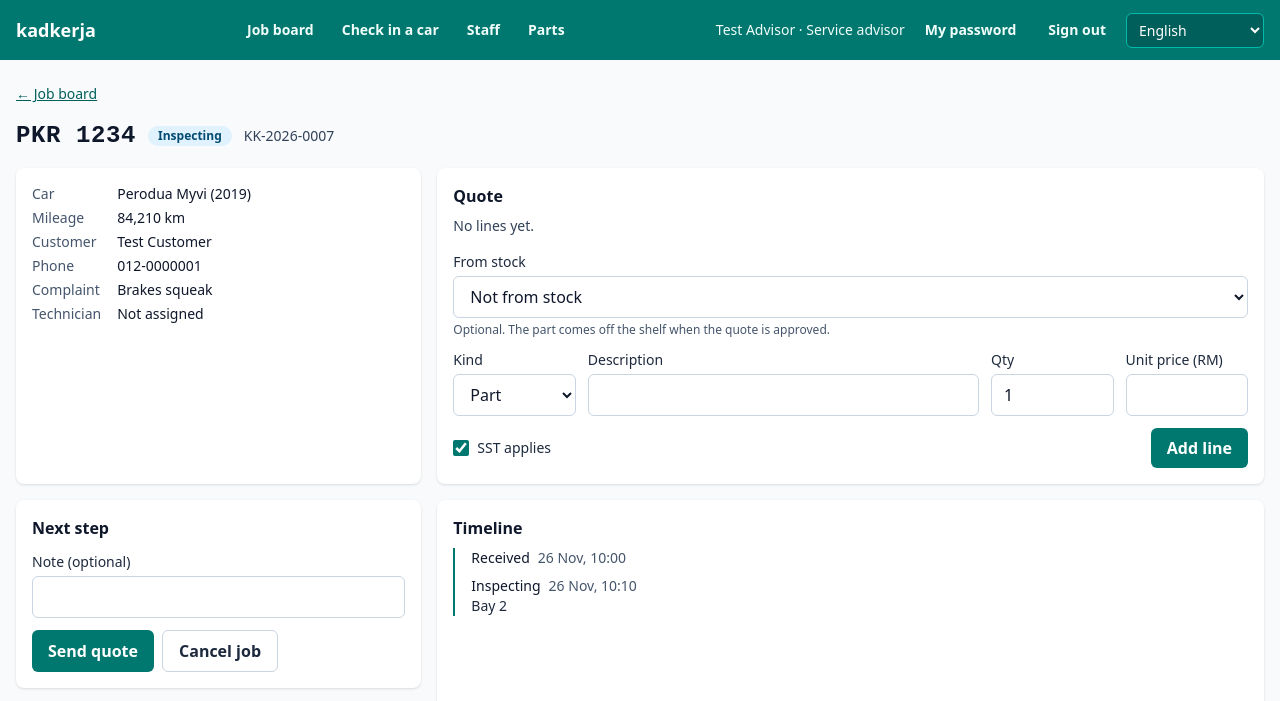
Test: JobPage › shows why the server refused a move and keeps the card as it was
The width and height of the screenshot is (1280, 701).
Click the button "Send quote".
click(93, 651)  # box [32, 630, 154, 672]
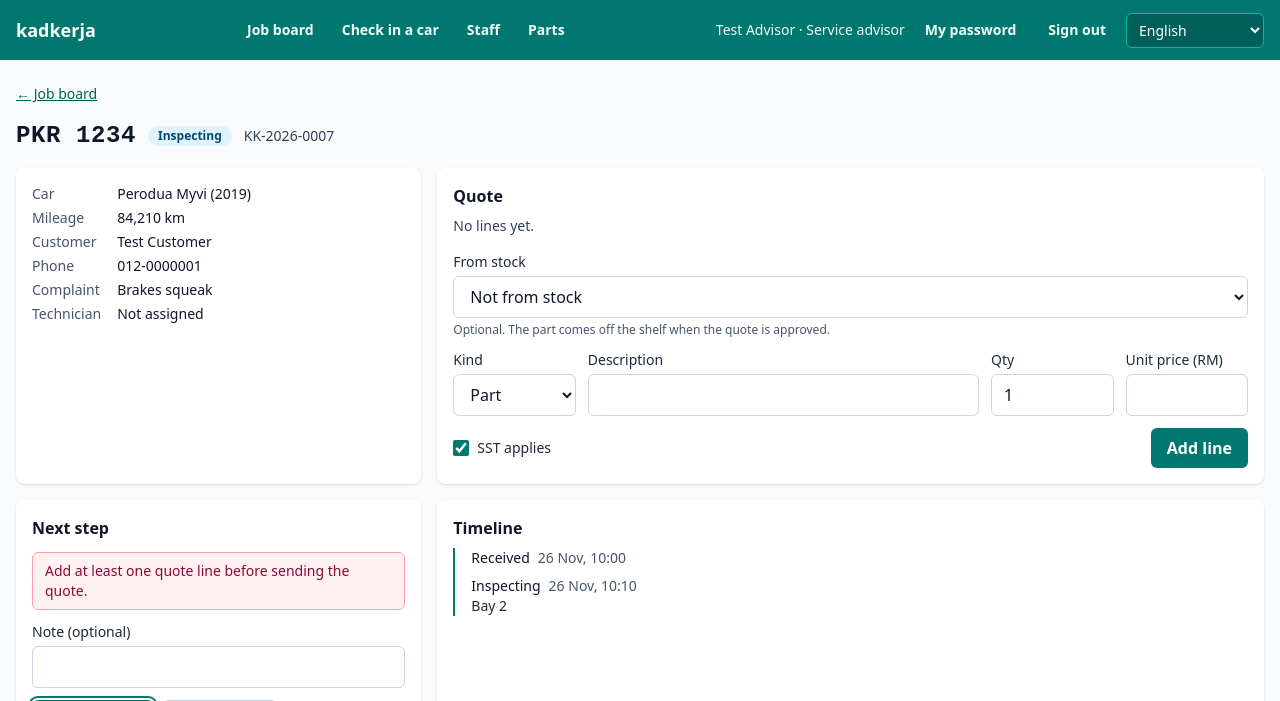
Expected: the heading "Quote" is shown, [453, 185, 503, 207]
Now the message shows "Add at least one quote line", box [45, 561, 349, 600]
